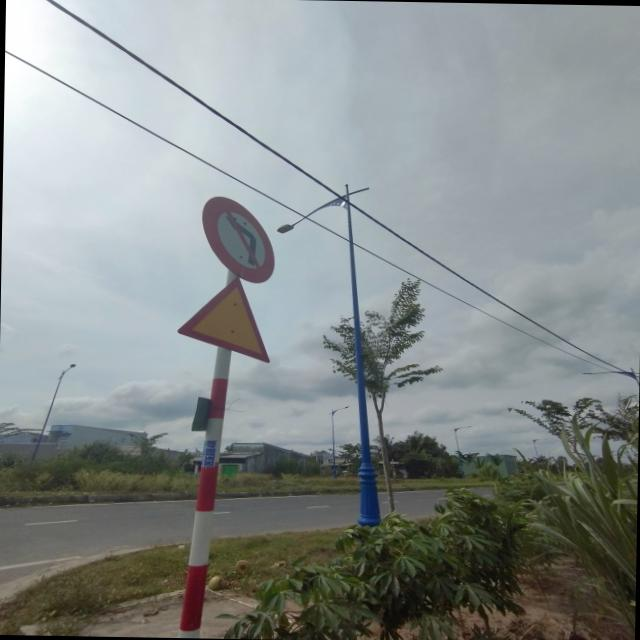Cam_Re_Trai: (198, 194, 278, 284)
Gioi_Han_Toc_Do_25: (176, 274, 272, 363)
